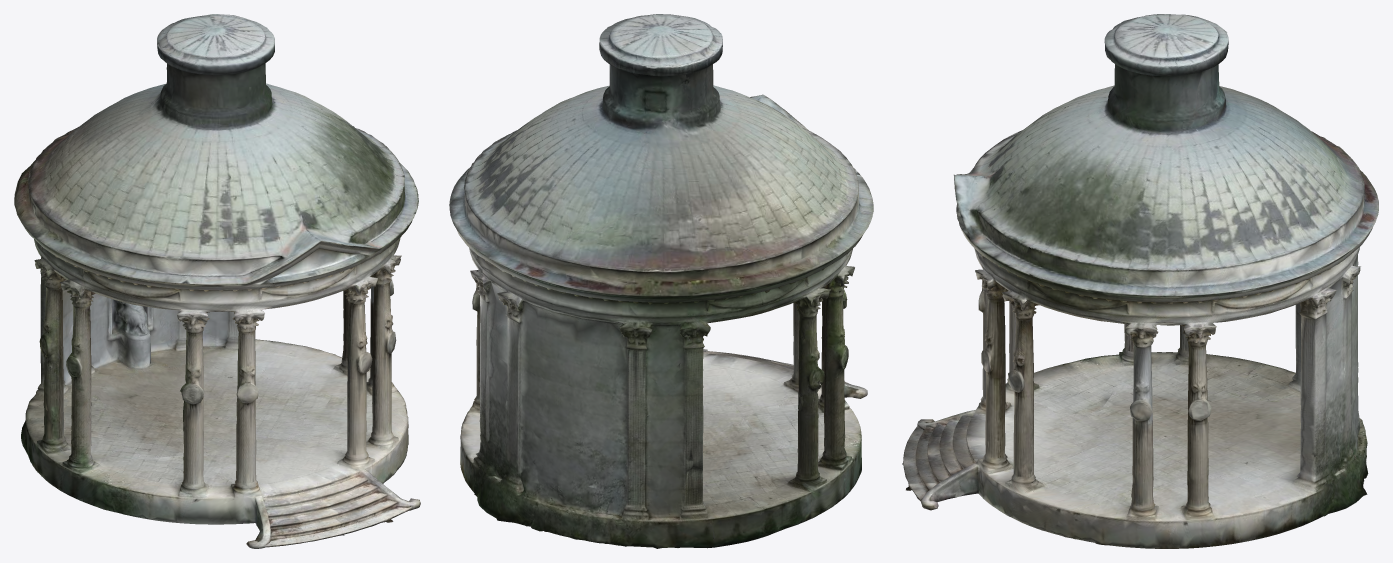
File: temple_lowar.gltf
3 renders of one model, left to right at view 1: azimuth 30°, elevation 25°; view 2: azimuth 150°, elevation 25°; view 3: azimuth 270°, elevation 25°, orthographic. The views are drawn at different scales.
Parts seen in each view (by area): view 1: temple_all_uv; view 2: temple_all_uv; view 3: temple_all_uv.
Part boxes in pixels (<box>): temple_all_uv: <box>14,14,420,548</box>; temple_all_uv: <box>449,14,873,548</box>; temple_all_uv: <box>902,14,1378,548</box>.
Bounding box in the file's own units: 0.1212 × 0.1369 × 0.136.
Materials: 1 (1 with a texture image).
